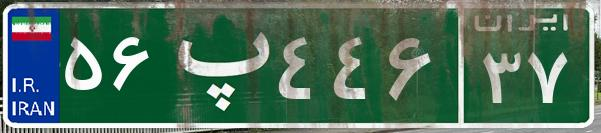3: (475, 38, 525, 113)
4: (273, 28, 330, 110), (330, 28, 385, 110)
5: (57, 26, 110, 107)
6: (385, 28, 445, 110), (110, 28, 158, 105)
7: (525, 38, 570, 115)
پ: (158, 15, 273, 115)
